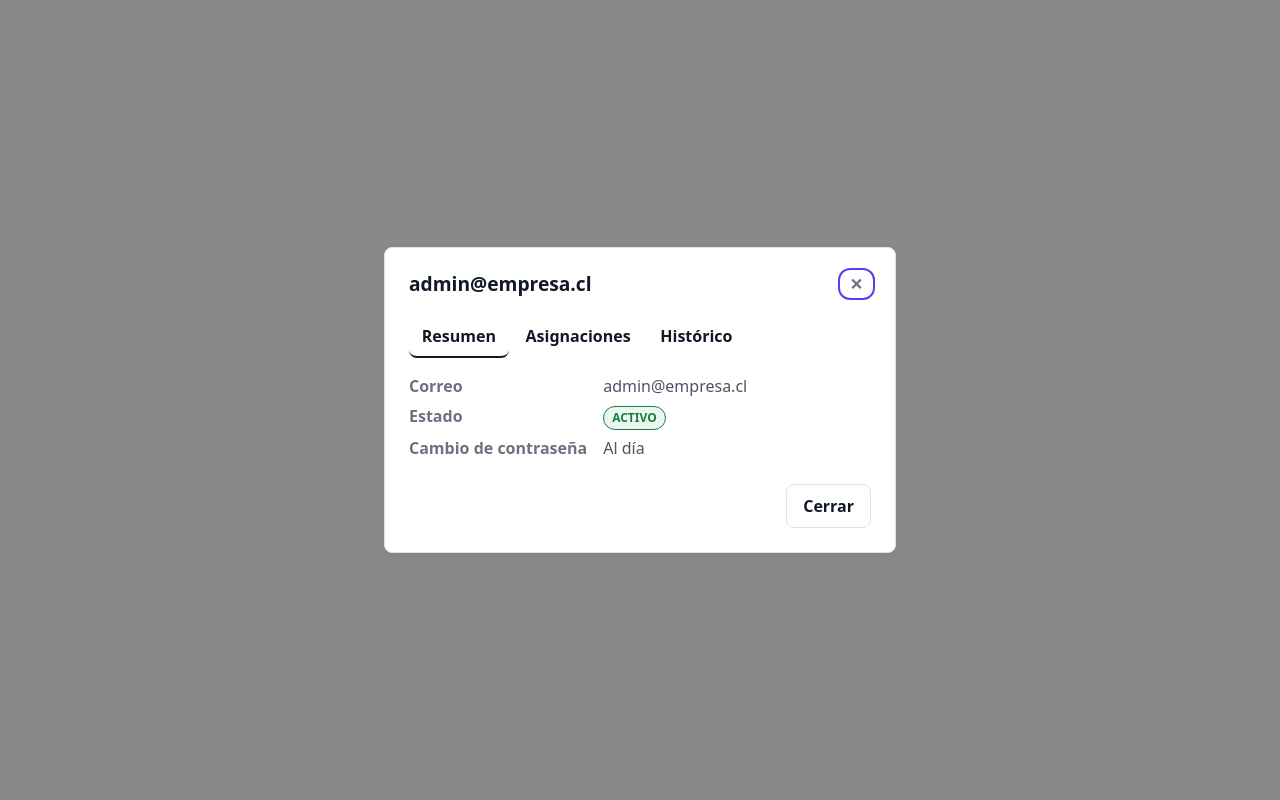
Test: UsuarioDetalle — nombre de la compañía (VF-011, RF-013) › el Histórico muestra el nombre de la compañía y conserva el alcance global
This screenshot has width=1280, height=800.
Click the tab "Histórico". click: coordinates (696, 337)
box: [648,316,745,358]
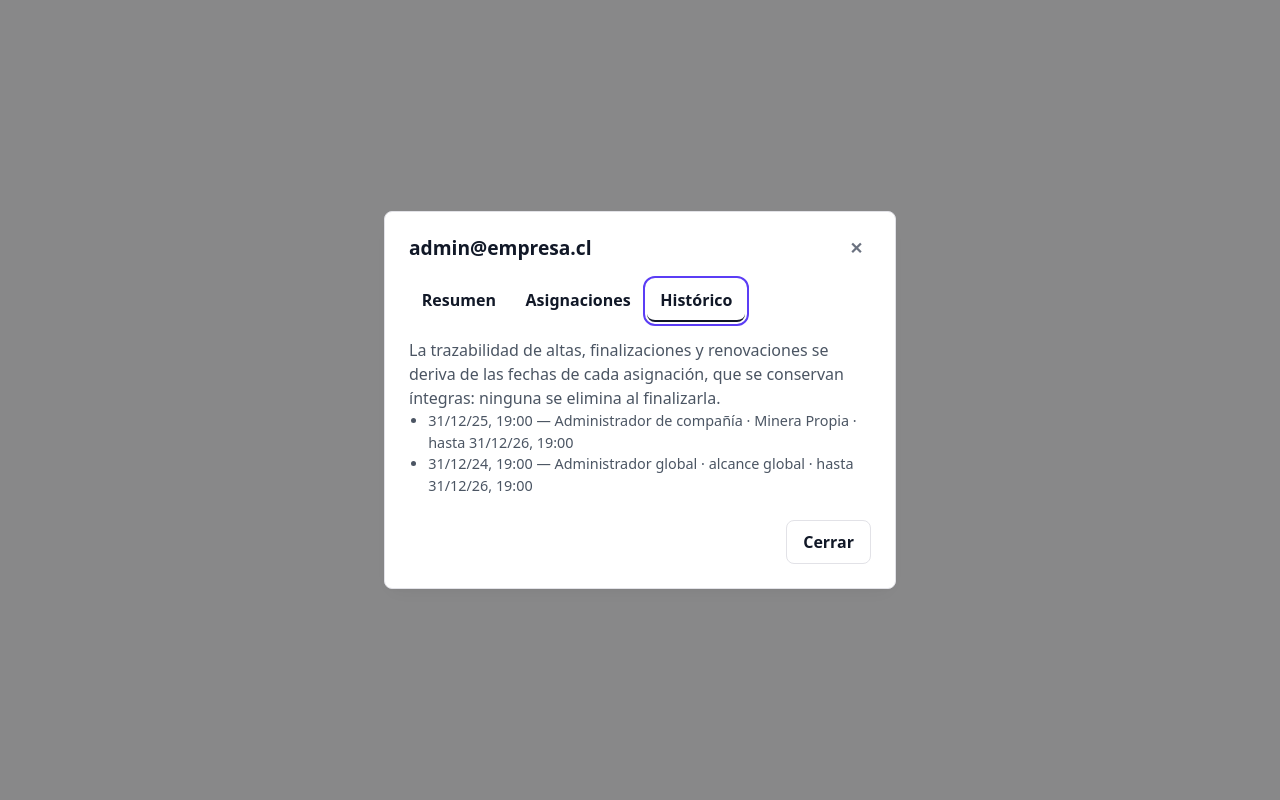
Now the list item "Minera Propia" is shown, box [754,411,849,430]
Now the list item "alcance global" is shown, box [697,454,805,473]
